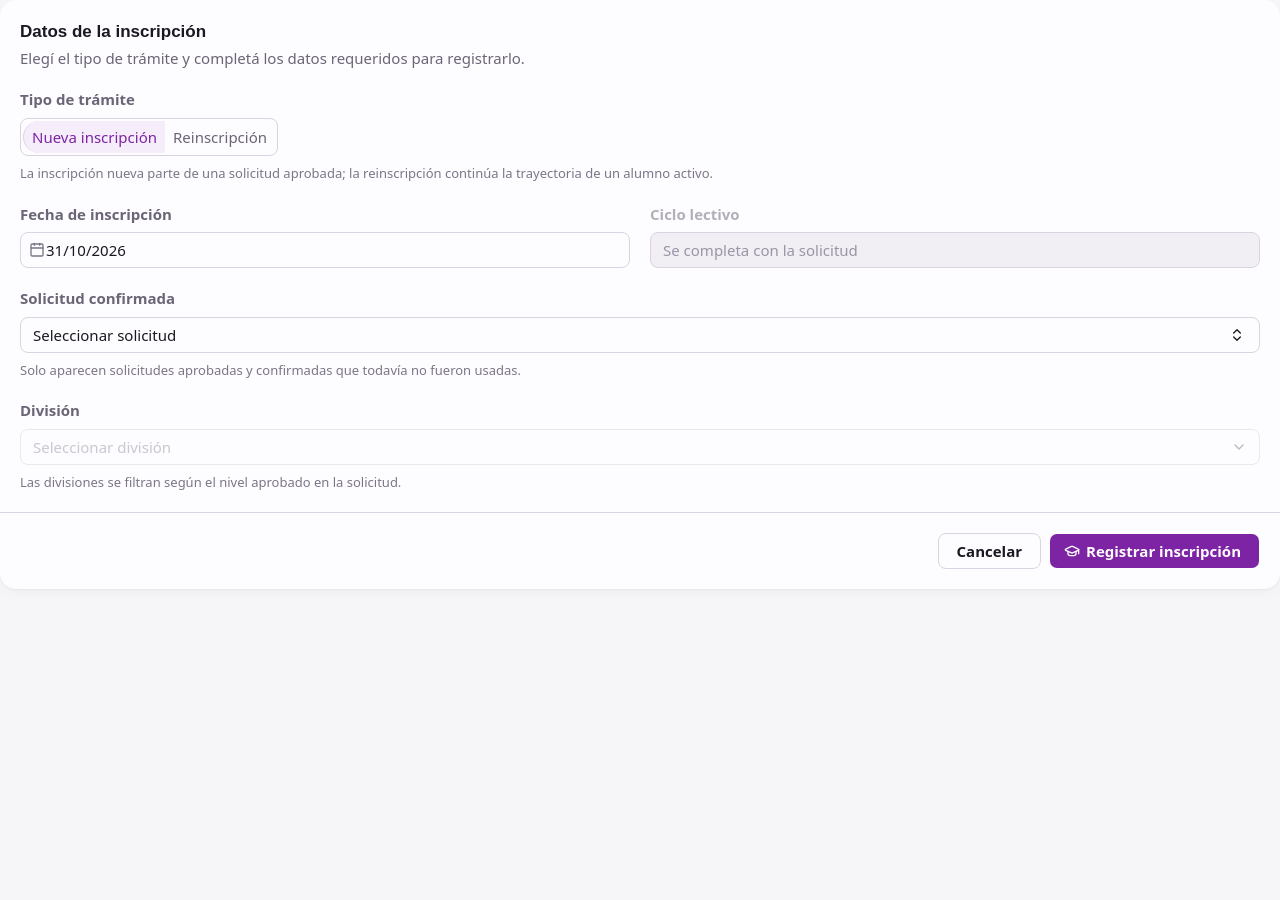
Scenario: FormularioInscripcion › presenta un resumen y errores inline cuando faltan datos obligatorios
Click the button "Registrar inscripción": (1154, 551) [1049,533,1260,569]
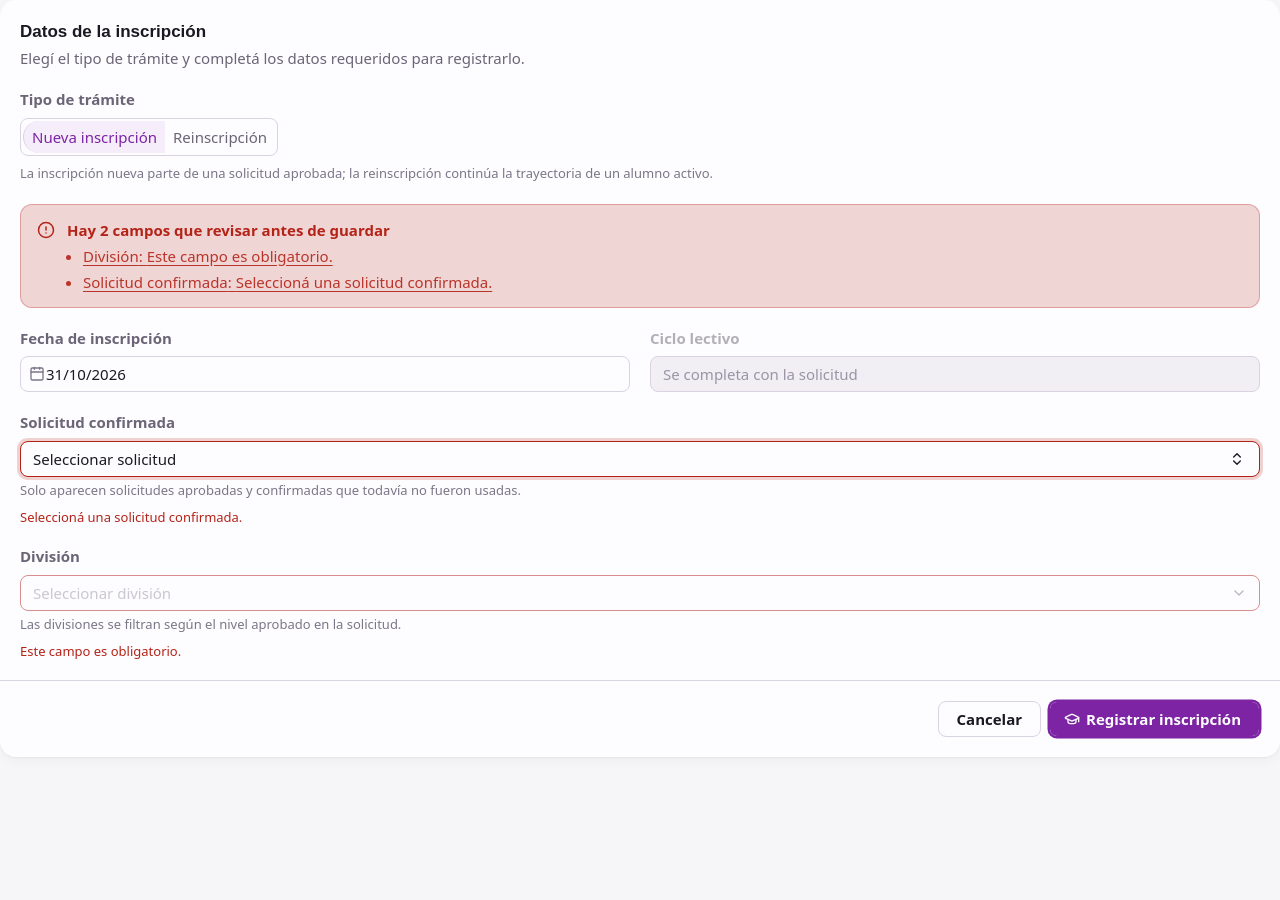
Expected: the text "Hay 2 campos que revisar antes de guardar" is shown, [67,220,390,240]
Expected: the link "Solicitud confirmada: Seleccioná una solicitud confirmada." is shown, [83,272,492,292]
Expected: the link "División: Este campo es obligatorio." is shown, [83,246,333,266]
